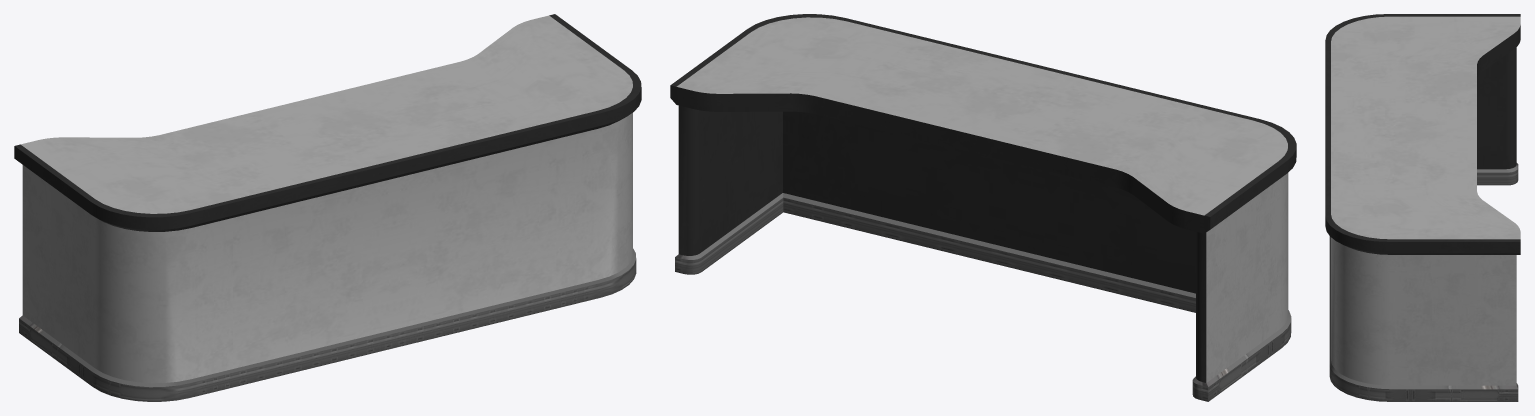
3 views of the same model, side by side, from view 1: azimuth 30°, elevation 25°; view 2: azimuth 150°, elevation 25°; view 3: azimuth 270°, elevation 25° (orthographic). The views are drawn at different scales.
Parts seen in each view (by area): view 1: Prop_Desk_Medium; view 2: Prop_Desk_Medium; view 3: Prop_Desk_Medium.
Part boxes in pixels (<box>): Prop_Desk_Medium: <box>14,14,641,401</box>; Prop_Desk_Medium: <box>670,14,1296,401</box>; Prop_Desk_Medium: <box>1325,14,1520,401</box>.
Bounding box in the file's own units: 1.99 × 0.6582 × 0.7207.
Materials: 3 (3 with a texture image).
